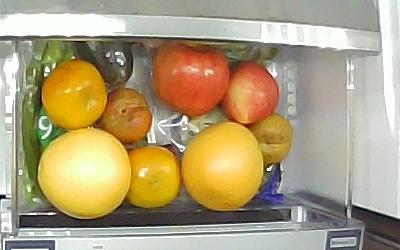apple: (151, 40, 230, 116), (220, 59, 280, 123)
grapefruit: (38, 127, 132, 220), (181, 122, 263, 210)
persimmon: (41, 60, 107, 130), (126, 145, 181, 208)
prune: (99, 88, 151, 143), (252, 113, 293, 165)
